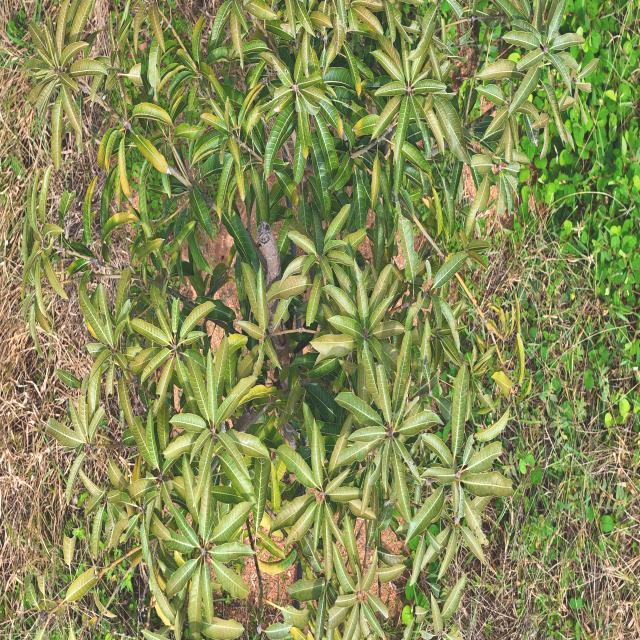mangoTree: (18, 0, 592, 640)
